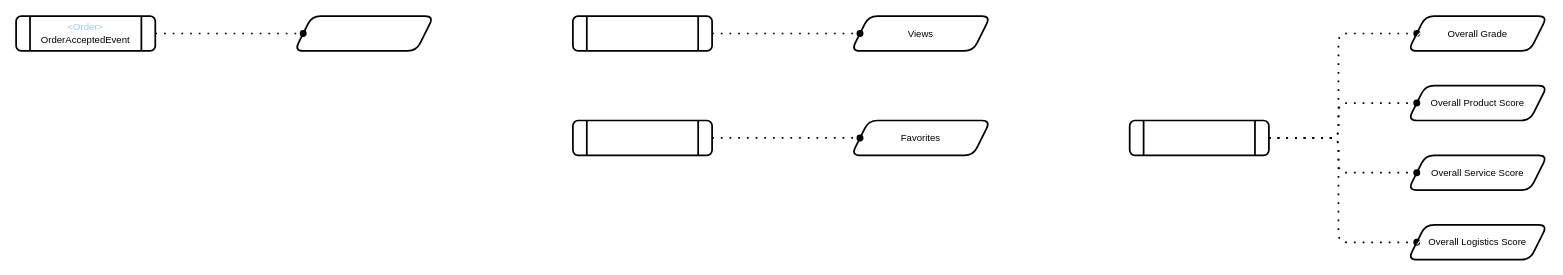
Image size: 1563x275. Some labels were removed from this diagram. The box of each missing label's shape, as (x1, y1, x2, y2) in pixels:
<Comment> CommentPostedEvent: (1128, 119, 1269, 156)
<Product> ProductFavoriteEvent: (572, 119, 713, 156)
<Product> ProductVisitEvent: (572, 15, 713, 51)
Sales: (293, 15, 434, 51)
